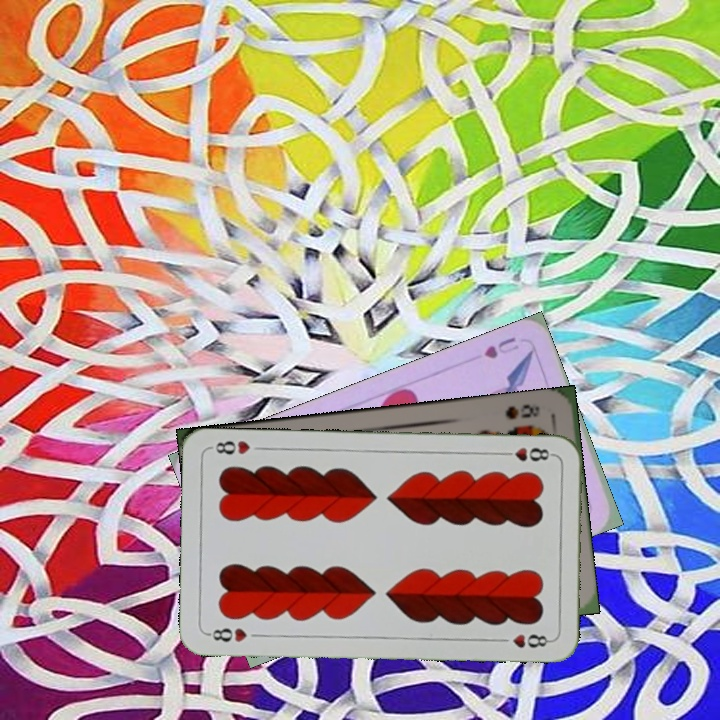H8: (497, 444, 556, 464), (204, 623, 250, 645)
HU: (480, 333, 522, 362)
S8: (501, 400, 543, 422)
